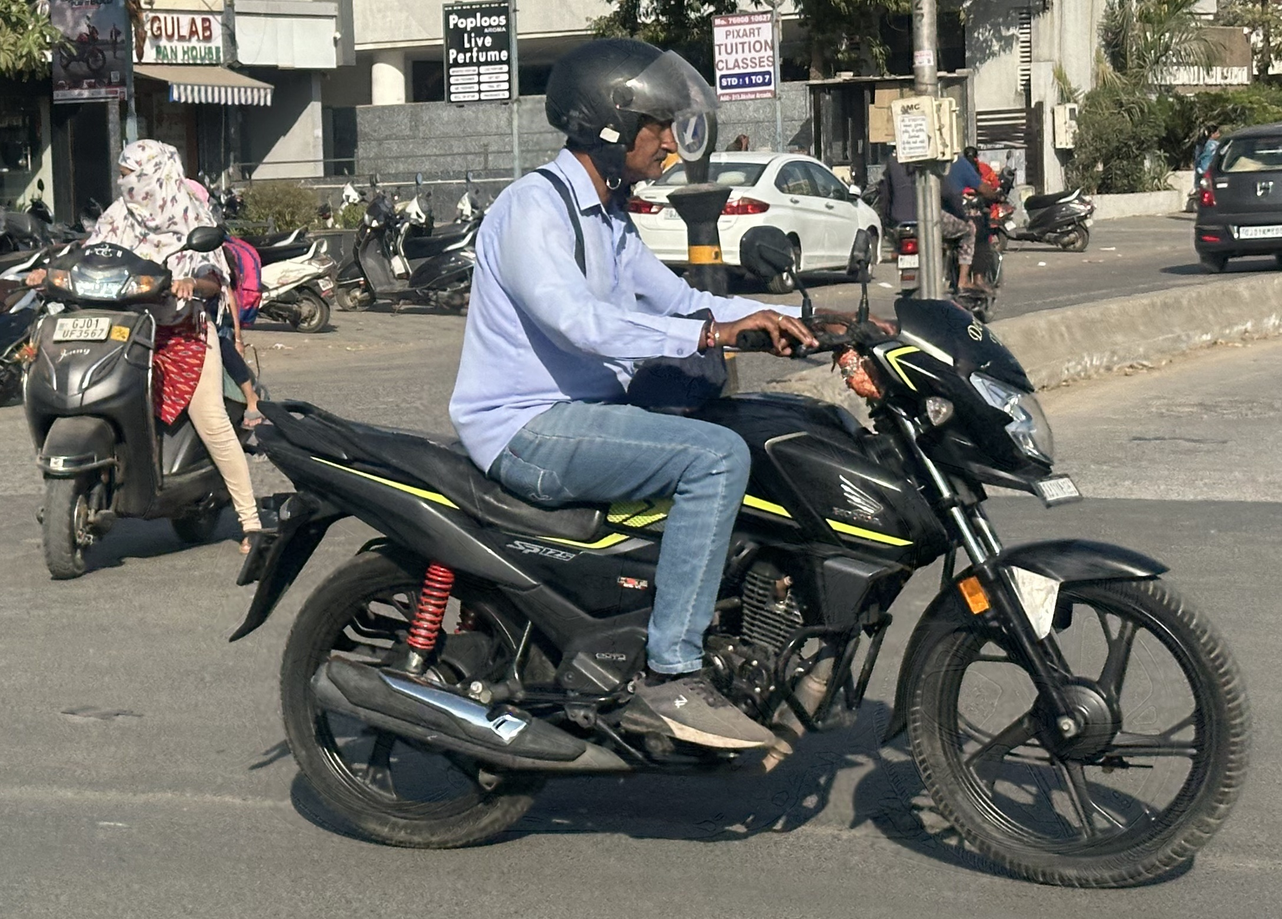BikeWithRider: (216, 25, 1263, 895), (11, 128, 281, 587)
Helmet: (532, 29, 703, 204)
NoHelmet: (102, 131, 192, 204)
